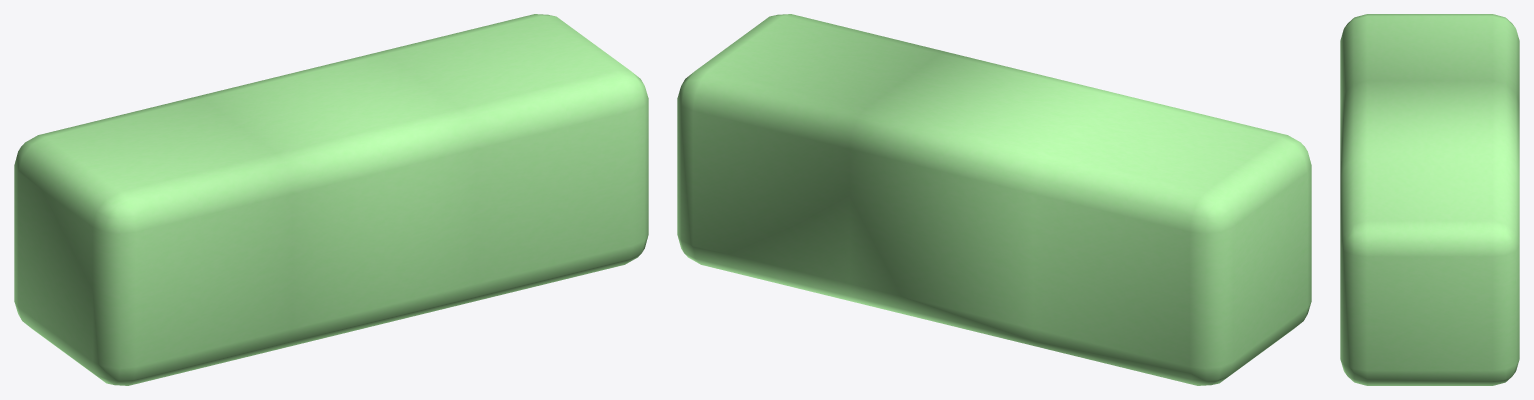
The model's file is __clay_block_02_11.obj.
3 renders of one model, left to right at view 1: azimuth 30°, elevation 25°; view 2: azimuth 150°, elevation 25°; view 3: azimuth 270°, elevation 25°, orthographic. The views are drawn at different scales.
Visible parts, largest first — view 1: clay_block_11; view 2: clay_block_11; view 3: clay_block_11.
Boxes of the visible parts, box(x1,y1,x2,y2) form: clay_block_11: box(14, 14, 648, 385); clay_block_11: box(677, 14, 1311, 385); clay_block_11: box(1340, 14, 1519, 385).
Bounding box in the file's own units: 3 × 1 × 1.
Materials: 1 (1 with a texture image).
